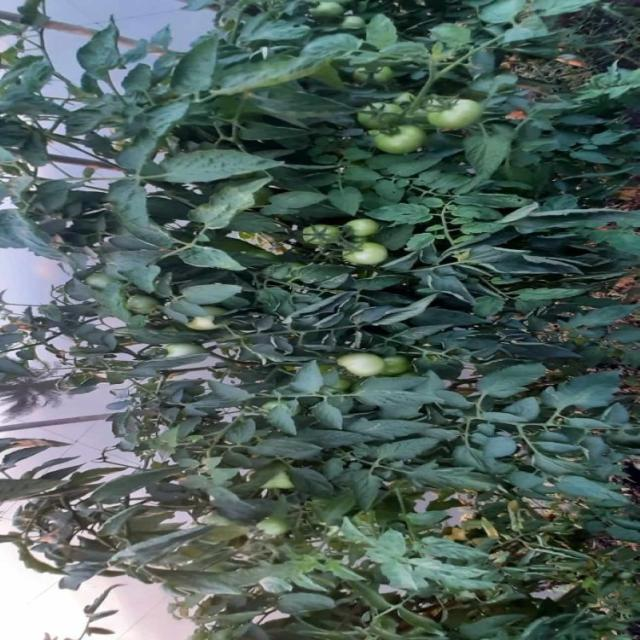tomato: (430, 89, 485, 133), (336, 241, 395, 271), (341, 353, 387, 388), (372, 130, 425, 159), (353, 99, 403, 129), (123, 290, 167, 324), (351, 65, 392, 92), (305, 222, 335, 252), (348, 215, 380, 240), (301, 1, 340, 21), (339, 14, 367, 38), (381, 353, 408, 376)
